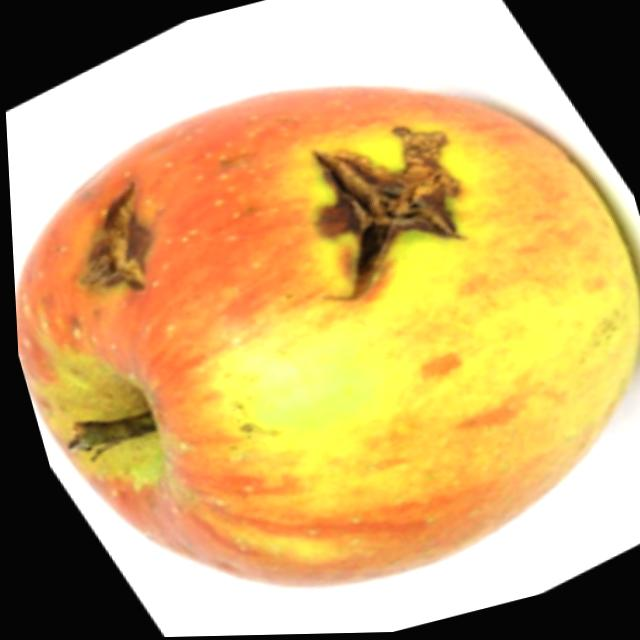organik: (1, 9, 640, 640)
